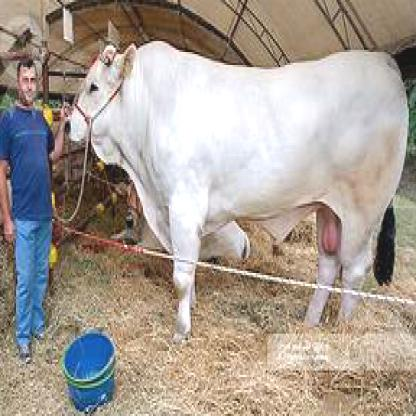cow: (65, 44, 409, 332)
